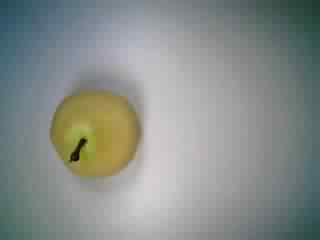pear: (39, 84, 149, 184)
